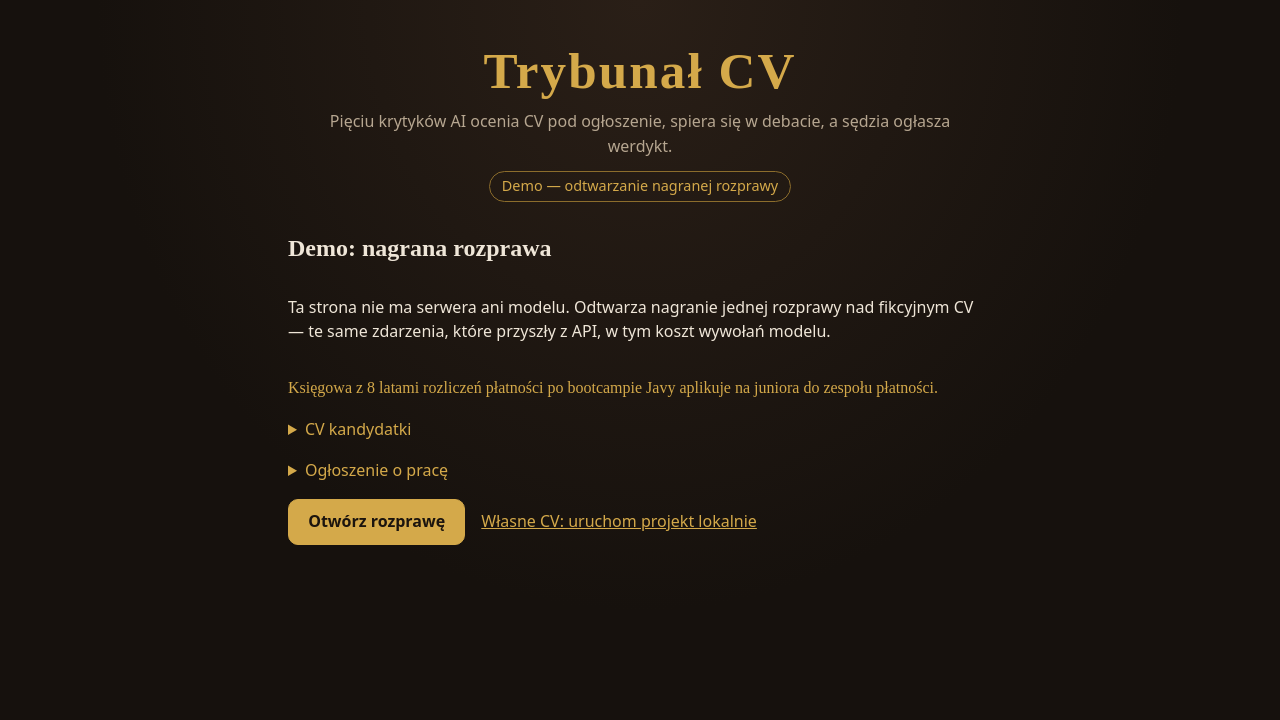
Test: App w trybie demo › strona startowa zamiast formularza; rozprawa z nagrania do werdyktu, bez serwera
Expected: the text "Demo — odtwarzanie nagranej rozprawy" is shown, [489,171,791,202]
Click the button "Otwórz rozprawę" at (377, 522), box [288,498,465,544]
(page scrolled)
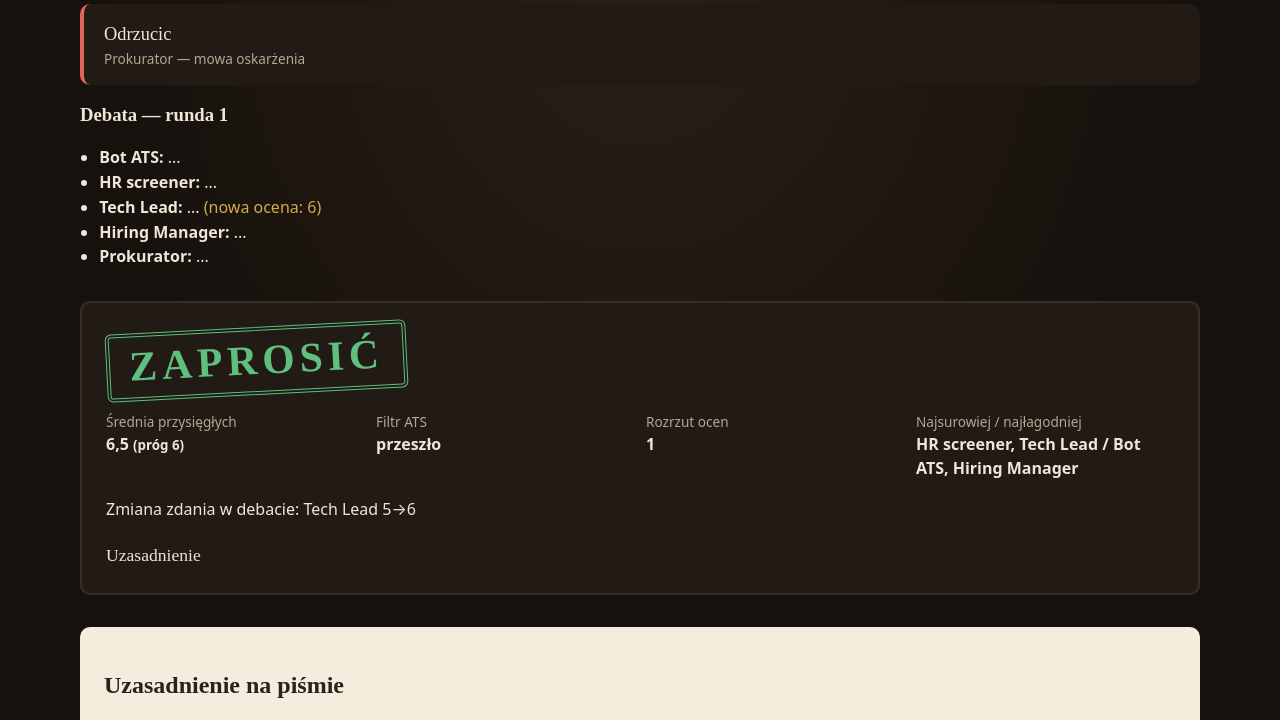
Now the heading "Zaprosić" is shown, box [104,319,409,402]
